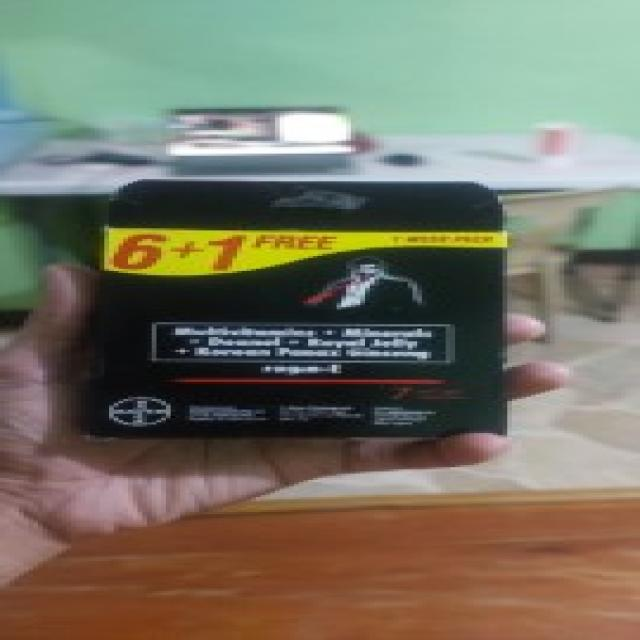Cacat: (81, 180, 507, 433)
